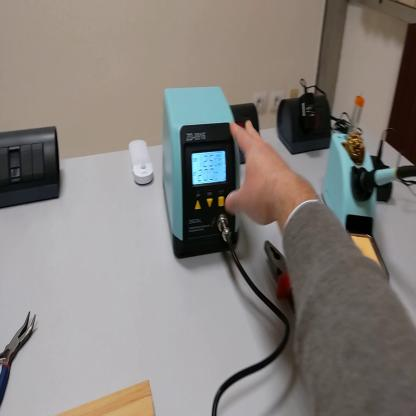hand: (225, 119, 286, 227)
pliers: (2, 309, 40, 410), (264, 241, 294, 314)
socket: (279, 93, 332, 155), (230, 104, 261, 164)
welder base: (321, 133, 390, 284)
welder probe tip: (353, 148, 416, 208)
welder station: (165, 84, 244, 259)
working area: (61, 383, 155, 415)
